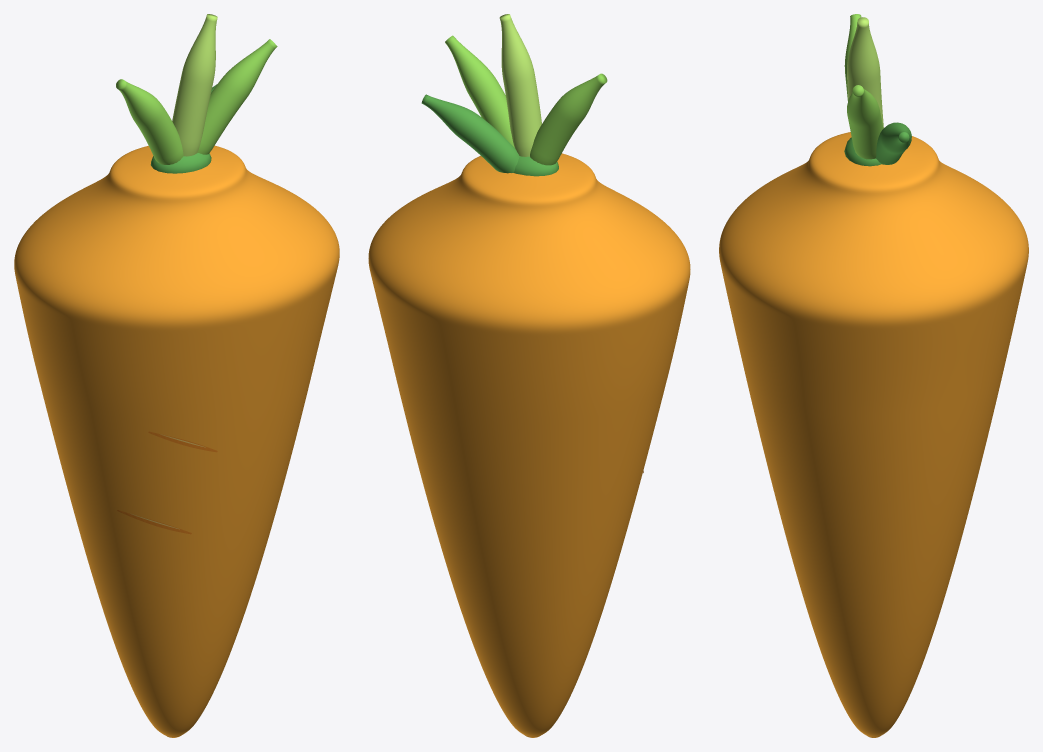
Rendered from Crop_Carrot_Normal_v001_reference_r08.fbx.
The picture shows the model from 3 angles, left to right: view 1: azimuth 30°, elevation 25°; view 2: azimuth 150°, elevation 25°; view 3: azimuth 270°, elevation 25°; orthographic projection. The views are drawn at different scales.
Visible parts, largest first — view 1: Crop_Carrot_Normal_v001_Body_Reference_r08, LeafStem_CenterTall_Reference_r08, LeafStem_RightTall_Reference_r08, LeafStem_LeftBack_Reference_r08, LeafStem_CoreBase_Reference_r08; view 2: Crop_Carrot_Normal_v001_Body_Reference_r08, LeafStem_CenterTall_Reference_r08, LeafStem_LeftBack_Reference_r08, LeafStem_RightLow_Reference_r08, LeafStem_RightTall_Reference_r08, LeafStem_CoreBase_Reference_r08; view 3: Crop_Carrot_Normal_v001_Body_Reference_r08, LeafStem_CenterTall_Reference_r08, LeafStem_RightTall_Reference_r08, LeafStem_RightLow_Reference_r08.
Part boxes in pixels (x1=…): Crop_Carrot_Normal_v001_Body_Reference_r08: x1=14, y1=145, x2=339, y2=737; LeafStem_CenterTall_Reference_r08: x1=172, y1=14, x2=217, y2=156; LeafStem_RightTall_Reference_r08: x1=197, y1=39, x2=277, y2=154; LeafStem_LeftBack_Reference_r08: x1=116, y1=79, x2=183, y2=164; LeafStem_CoreBase_Reference_r08: x1=150, y1=153, x2=211, y2=173; Crop_Carrot_Normal_v001_Body_Reference_r08: x1=368, y1=153, x2=690, y2=737; LeafStem_CenterTall_Reference_r08: x1=499, y1=14, x2=541, y2=156; LeafStem_LeftBack_Reference_r08: x1=530, y1=73, x2=607, y2=165; LeafStem_RightLow_Reference_r08: x1=421, y1=94, x2=519, y2=173; LeafStem_RightTall_Reference_r08: x1=445, y1=35, x2=514, y2=147; LeafStem_CoreBase_Reference_r08: x1=513, y1=156, x2=558, y2=176; Crop_Carrot_Normal_v001_Body_Reference_r08: x1=719, y1=132, x2=1028, y2=737; LeafStem_CenterTall_Reference_r08: x1=847, y1=17, x2=883, y2=128; LeafStem_RightTall_Reference_r08: x1=847, y1=85, x2=883, y2=159; LeafStem_RightLow_Reference_r08: x1=876, y1=122, x2=911, y2=164.
Size of the model in its own units: 108 by 257 by 98.08.
